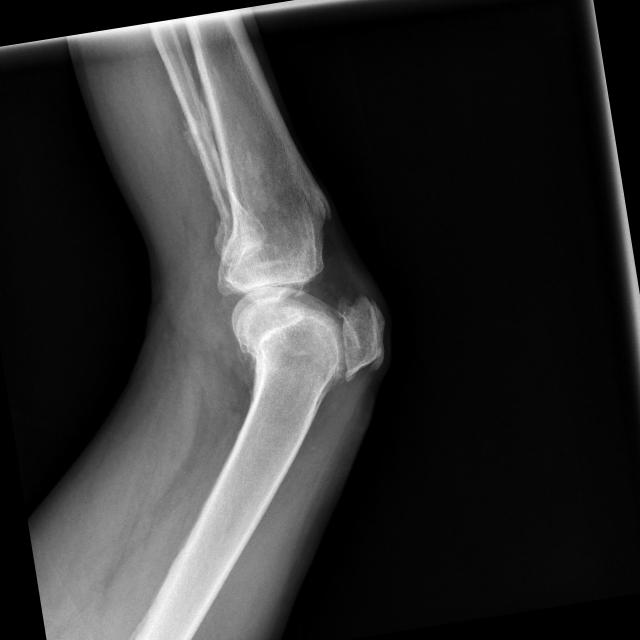Knee: (202, 202, 395, 405)
